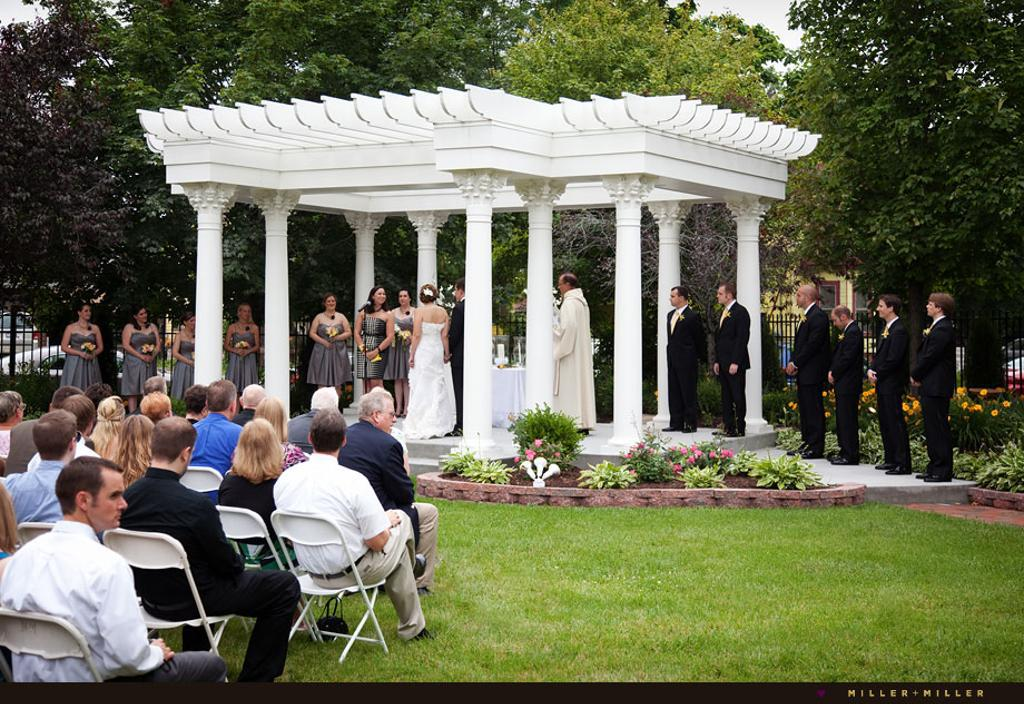face: (87, 469, 128, 530), (378, 394, 398, 437), (797, 288, 811, 308), (877, 299, 891, 319), (831, 312, 844, 331), (669, 290, 683, 307), (558, 278, 571, 295), (927, 299, 939, 317), (375, 289, 387, 306), (717, 287, 729, 304), (455, 284, 466, 302), (399, 291, 411, 307), (81, 305, 92, 321), (326, 297, 337, 312), (240, 307, 251, 320), (138, 308, 148, 322), (187, 315, 196, 330)
